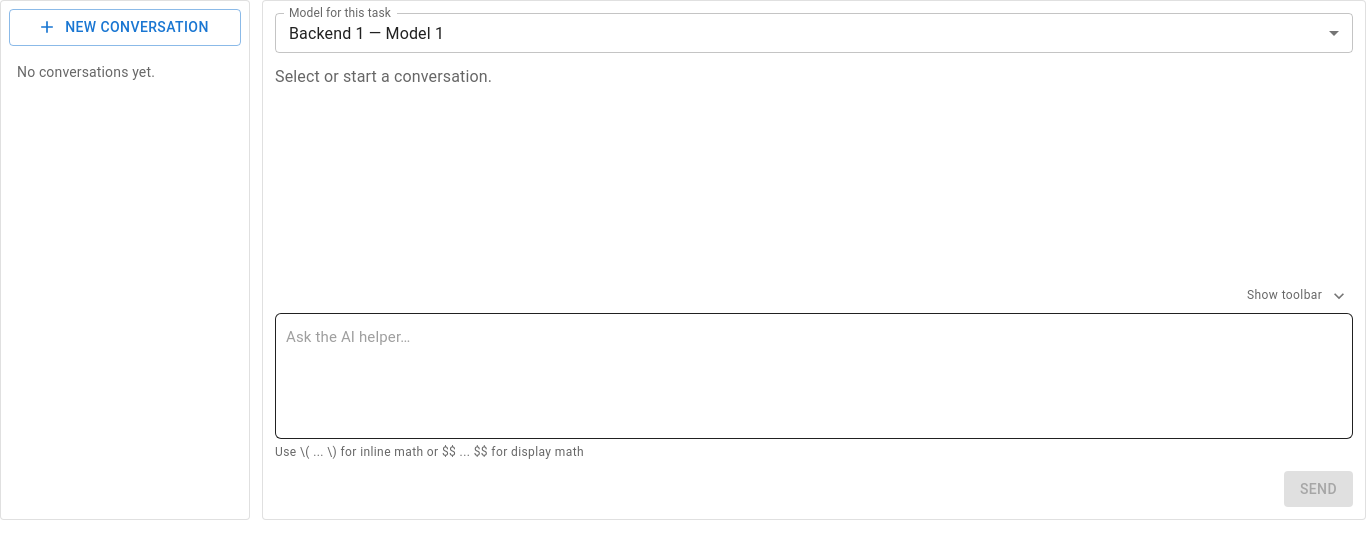
AiCourseChat › uses the student endpoints and shows student-facing guidance
expect the text "No conversations yet." is shown: met, box [17,64,155,80]
Click the button "New conversation": (125, 27) [9,9,241,46]
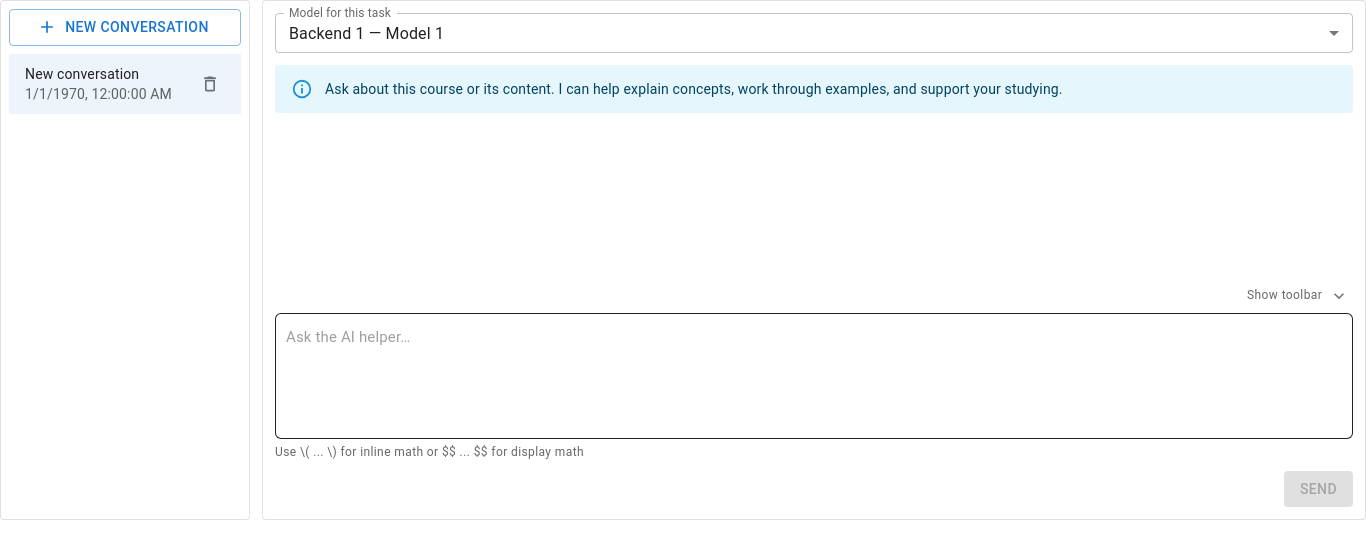
expect the text "Ask about this course or its content" is shown: met, box [325,81,1063,97]
